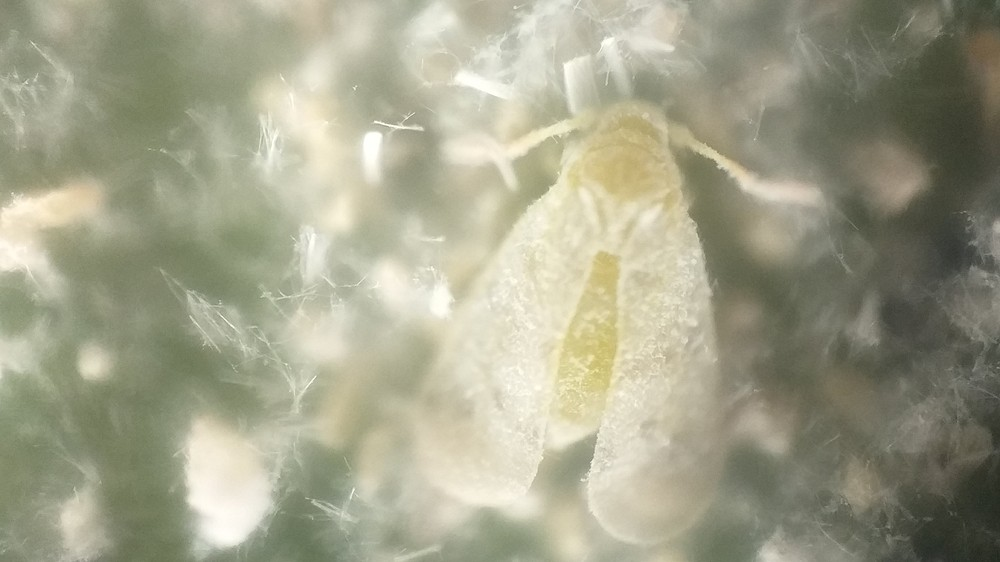Mosca Blanca: (397, 97, 842, 554)
